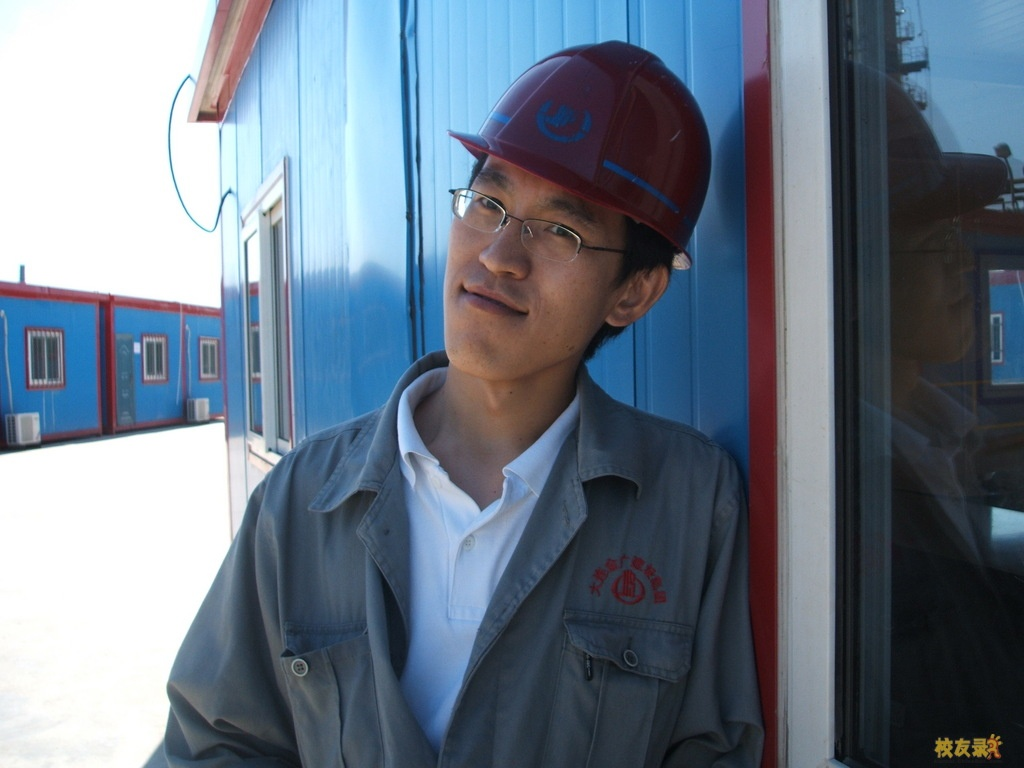red: (435, 33, 716, 393)
